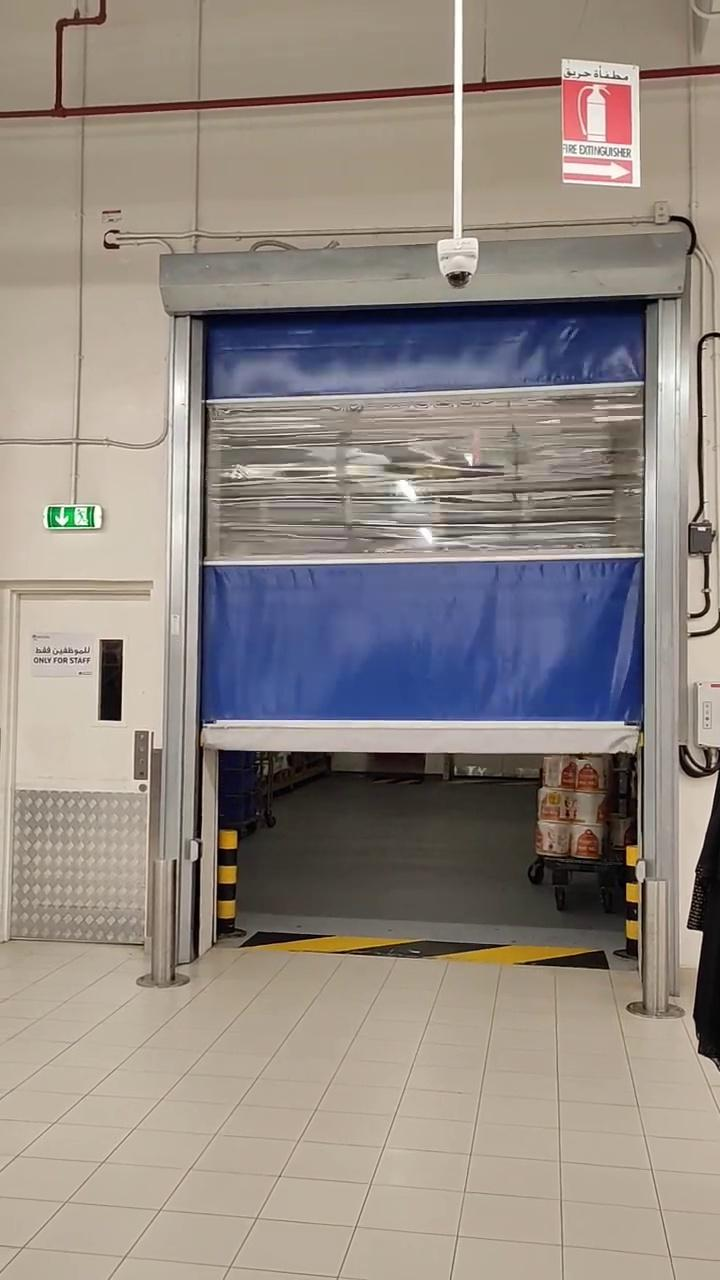Strip: (241, 913, 617, 979)
